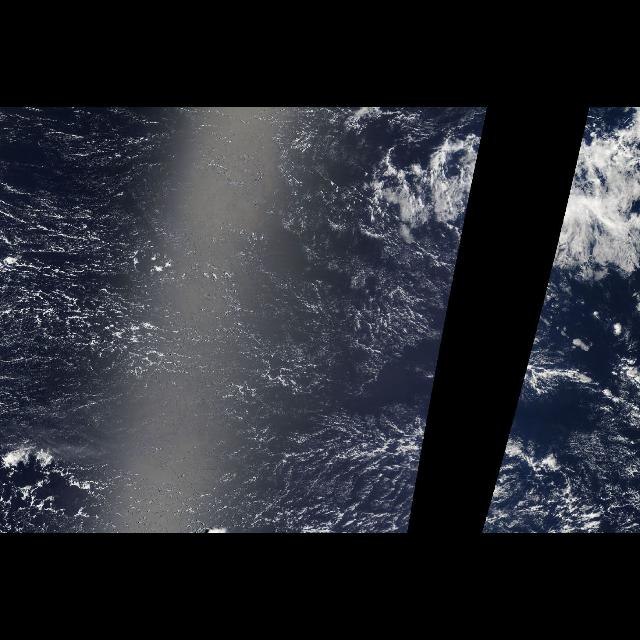Gravel: (0, 241, 172, 531)
Sugar: (1, 116, 430, 434)
